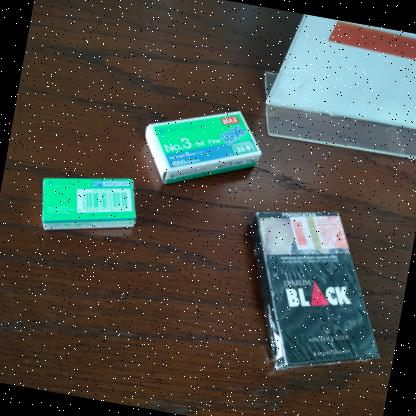bungkus rokok: (224, 193, 405, 394)
